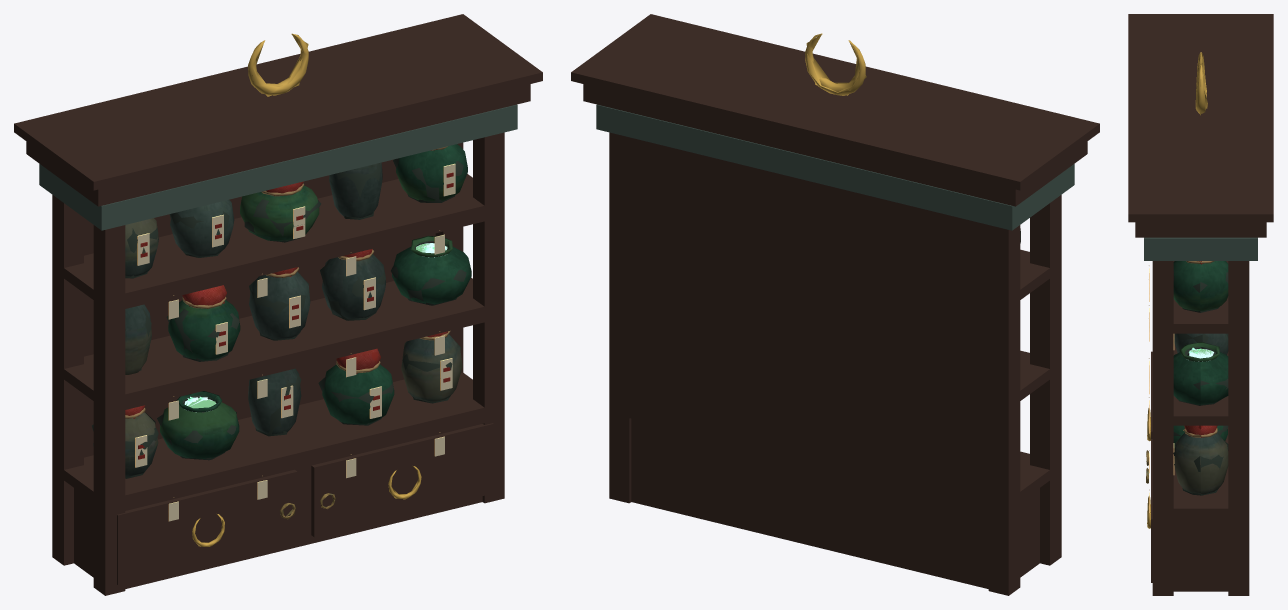
File: prop_gu_jar_shelf.gltf
3 renders of one model, left to right at view 1: azimuth 30°, elevation 25°; view 2: azimuth 150°, elevation 25°; view 3: azimuth 270°, elevation 25°, orthographic. The views are drawn at different scales.
Parts seen in each view (by area): view 1: Far, Near; view 2: Far, Near; view 3: Far, Near.
Boxes of the visible parts, x1=… form: Far: x1=14, y1=14, x2=542, y2=595; Near: x1=93, y1=33, x2=471, y2=546; Far: x1=571, y1=14, x2=1099, y2=595; Near: x1=805, y1=33, x2=1020, y2=243; Far: x1=1128, y1=14, x2=1273, y2=595; Near: x1=1146, y1=52, x2=1228, y2=528.
Bounding box in the file's own units: 2.7 × 2.82 × 0.83.
12 materials, 8 textured.
